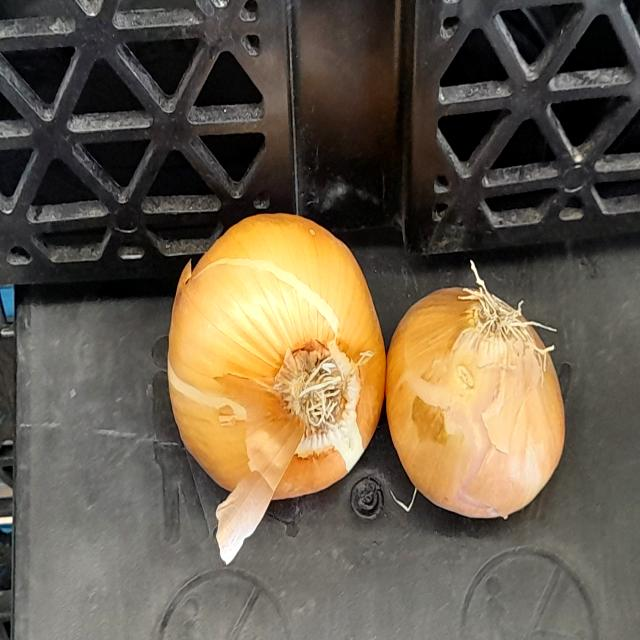onion: (149, 190, 384, 520), (386, 254, 574, 541)
